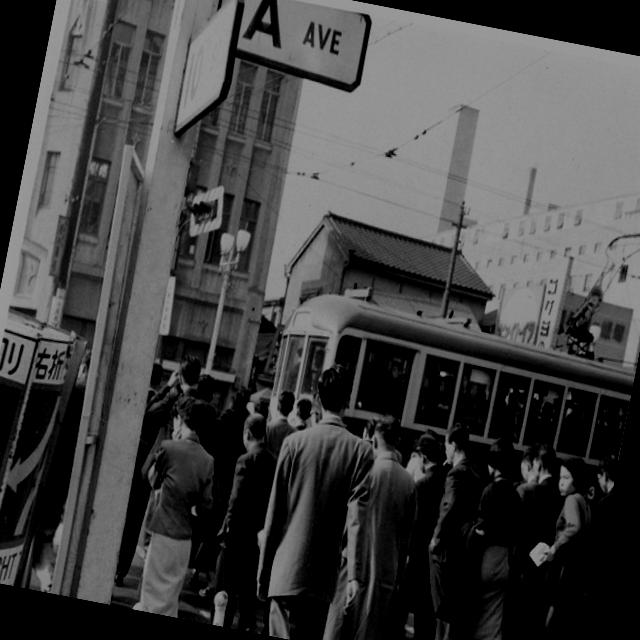Vehicle: (242, 162, 640, 595)
